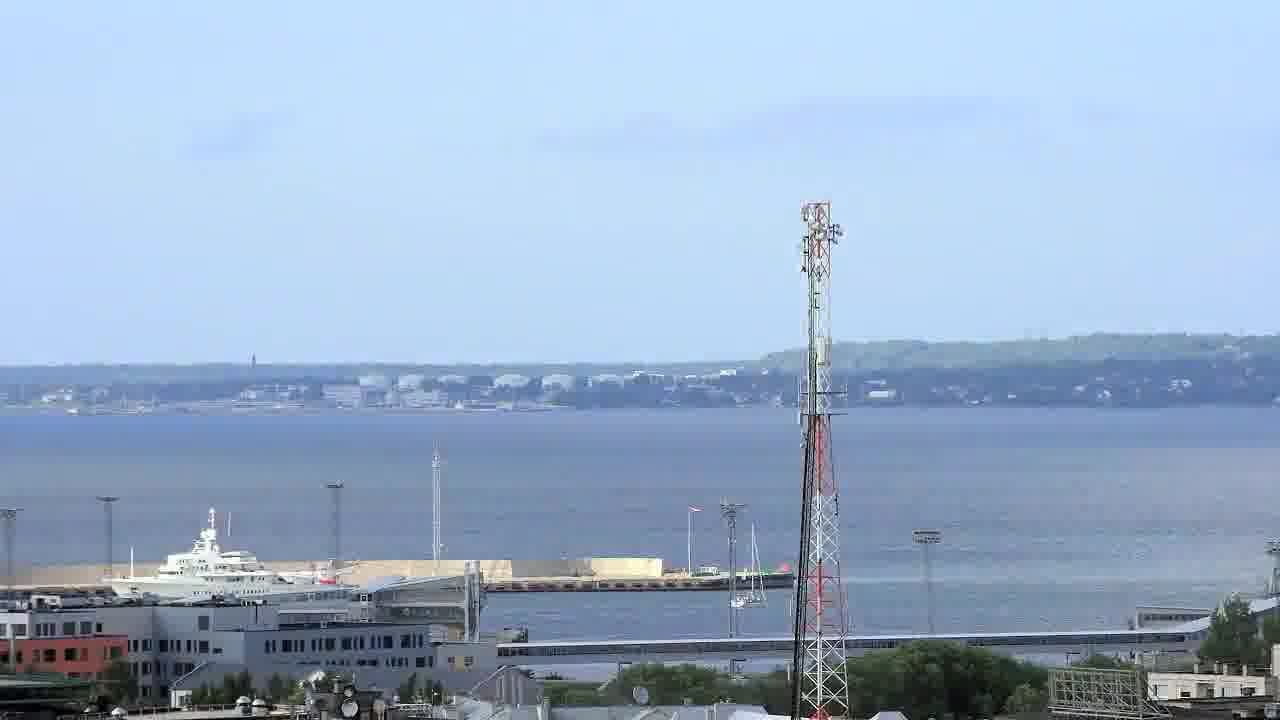type-0: (722, 547, 777, 624)
type-3: (88, 507, 346, 605)
